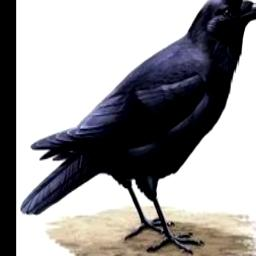Crow: (19, 0, 256, 256)
